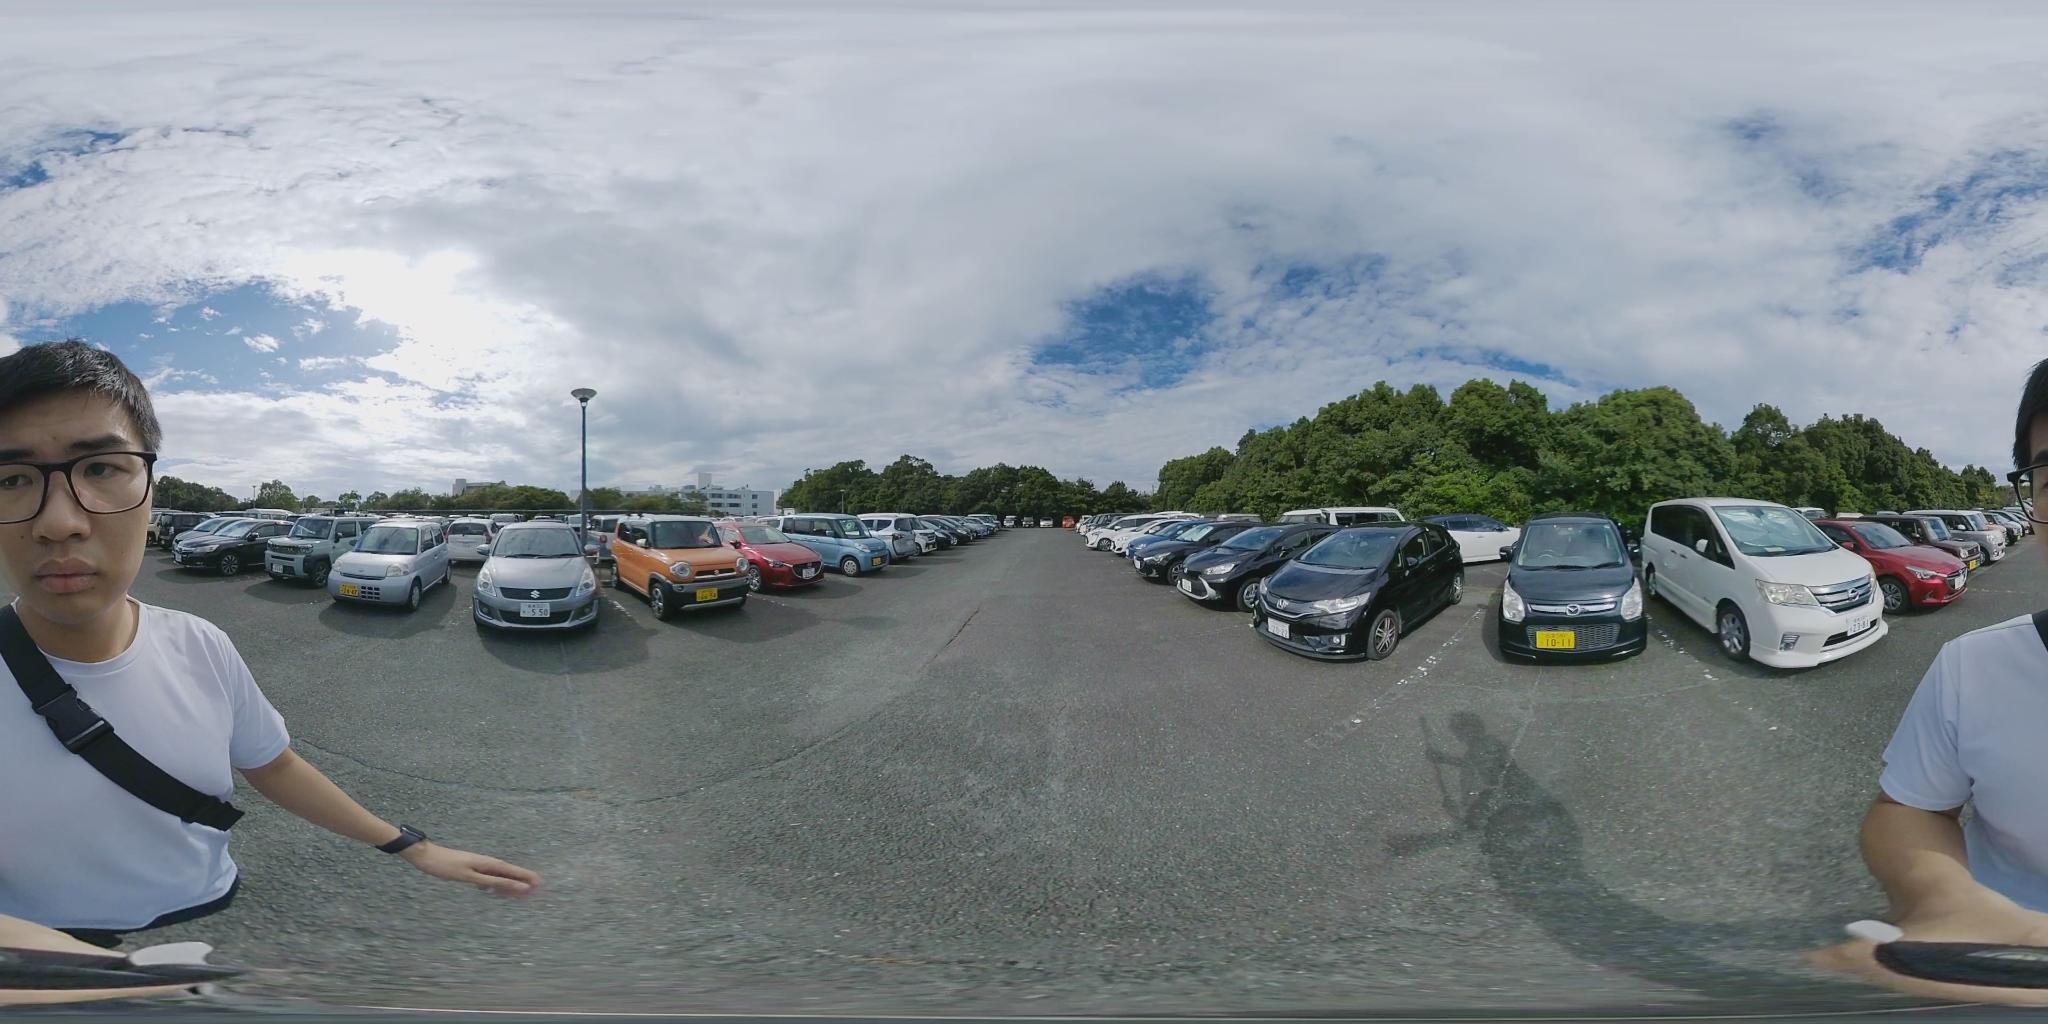car: (1634, 496, 1894, 670), (1246, 524, 1471, 661), (1493, 517, 1651, 665), (1177, 525, 1341, 611), (610, 516, 743, 622), (468, 524, 602, 627), (1827, 521, 1971, 613), (329, 526, 460, 611), (1127, 521, 1270, 580), (260, 515, 383, 581), (707, 520, 823, 589), (170, 516, 298, 572), (773, 533, 900, 577), (1910, 513, 2014, 564), (957, 519, 1002, 542)
